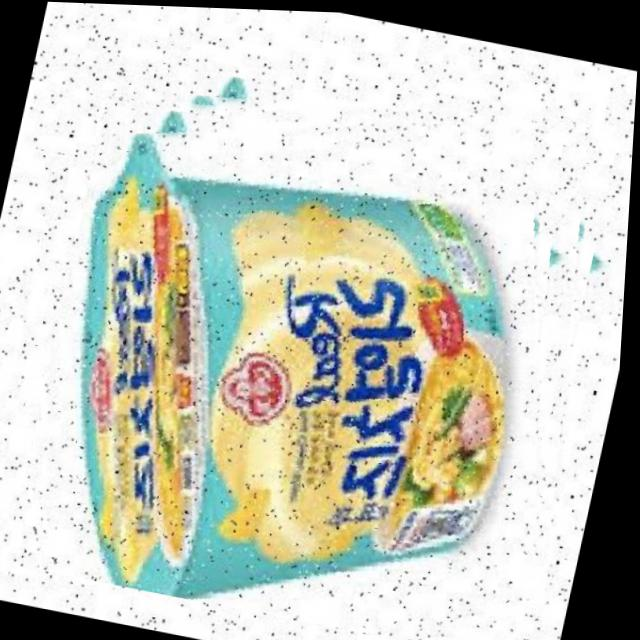Miscellaneous: (8, 40, 638, 640)
